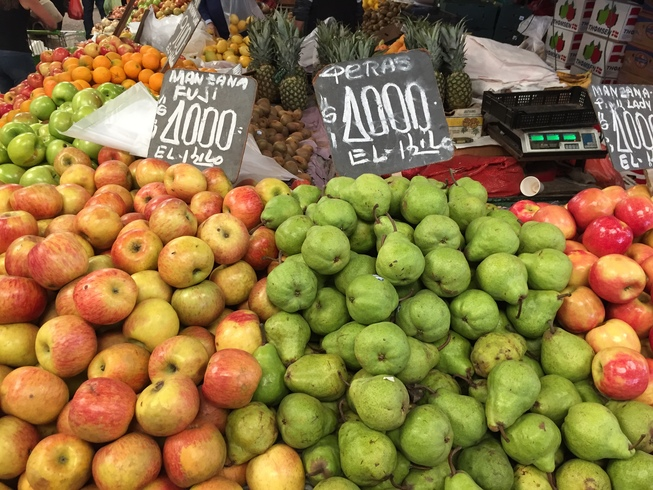precio: (317, 58, 451, 178), (156, 66, 250, 182), (588, 80, 653, 176)
